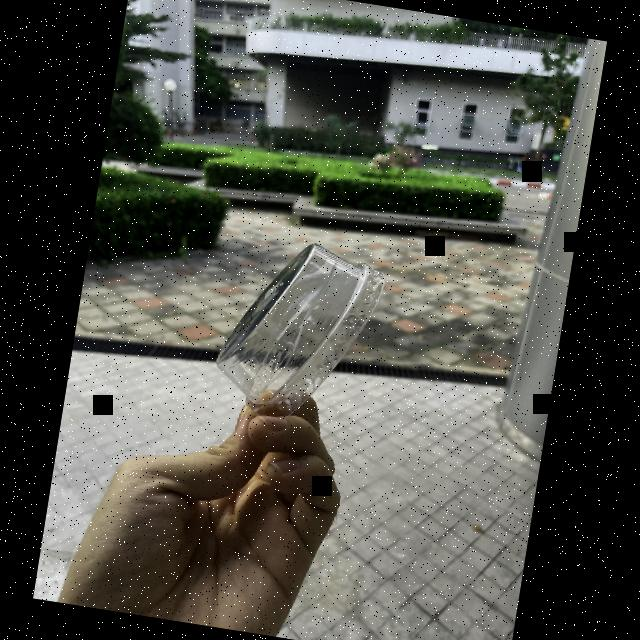plastic_cup_lid: (204, 224, 399, 446)
